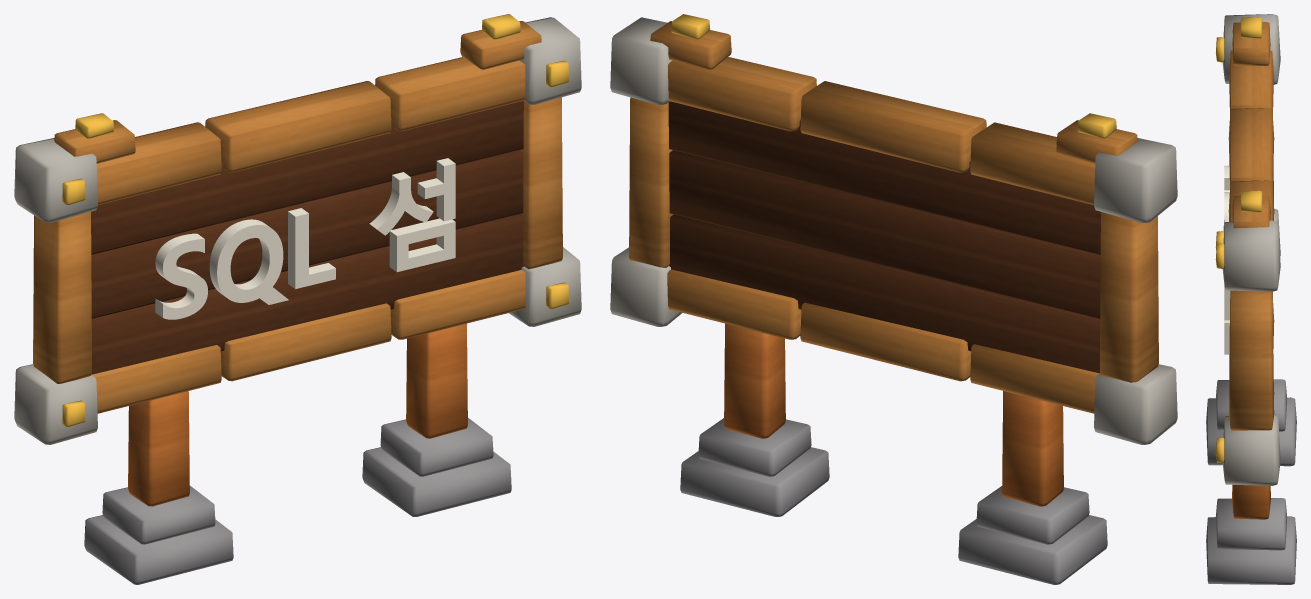
Rendered from OBJ19_sign_sql.glb.
3 views of the same model, side by side, from view 1: azimuth 30°, elevation 25°; view 2: azimuth 150°, elevation 25°; view 3: azimuth 270°, elevation 25° (orthographic). The views are drawn at different scales.
Visible parts, largest first — view 1: Frame, Plank_2, Plank_0, Plank_1, Label, Leg_-1, Leg_1, FootLow_1, FootLow_-1, CornerCap_-1_1, CornerCap_-1_-1, FootUp_-1 (+7 smaller); view 2: Frame, Plank_1, Plank_0, Plank_2, Leg_-1, Leg_1, FootLow_1, FootLow_-1, CornerCap_-1_1, CornerCap_-1_-1, FootUp_1, FootUp_-1 (+6 smaller); view 3: Frame, FootLow_1, CornerCap_1_1, CornerCap_1_-1, FootUp_1, FootLow_-1, CornerCap_-1_1, TopBlock_-1, Leg_1, FootUp_-1, TopBlock_1, Label (+5 smaller).
Part boxes in pixels (x1,y1,x2,y2): Frame: [33, 57, 562, 413]; Plank_2: [91, 101, 523, 254]; Plank_0: [91, 214, 523, 374]; Plank_1: [91, 150, 523, 318]; Label: [155, 158, 455, 319]; Leg_-1: [128, 391, 189, 506]; Leg_1: [406, 323, 467, 438]; FootLow_1: [362, 447, 511, 516]; FootLow_-1: [84, 515, 233, 584]; CornerCap_-1_1: [14, 138, 97, 222]; CornerCap_-1_-1: [14, 364, 97, 444]; FootUp_-1: [102, 485, 215, 544]; Frame: [629, 57, 1158, 413]; Plank_1: [669, 150, 1100, 318]; Plank_0: [669, 214, 1100, 373]; Plank_2: [668, 101, 1100, 254]; Leg_-1: [1002, 391, 1063, 506]; Leg_1: [724, 323, 785, 438]; FootLow_1: [680, 447, 829, 516]; FootLow_-1: [958, 515, 1107, 584]; CornerCap_-1_1: [1094, 138, 1177, 222]; CornerCap_-1_-1: [1094, 364, 1177, 444]; FootUp_1: [698, 418, 811, 476]; FootUp_-1: [976, 486, 1089, 544]; Frame: [1228, 50, 1274, 430]; FootLow_1: [1206, 516, 1296, 584]; CornerCap_1_1: [1222, 220, 1280, 291]; CornerCap_1_-1: [1222, 415, 1280, 485]; FootUp_1: [1215, 498, 1287, 550]; FootLow_-1: [1206, 397, 1296, 466]; CornerCap_-1_1: [1222, 14, 1280, 84]; TopBlock_-1: [1232, 22, 1270, 65]; Leg_1: [1232, 485, 1270, 519]; FootUp_-1: [1215, 379, 1287, 431]; TopBlock_1: [1232, 195, 1270, 228]; Label: [1224, 165, 1230, 354].
Bounding box in the file's own units: 1.69 × 1.35 × 0.28.
7 materials, 3 textured.
